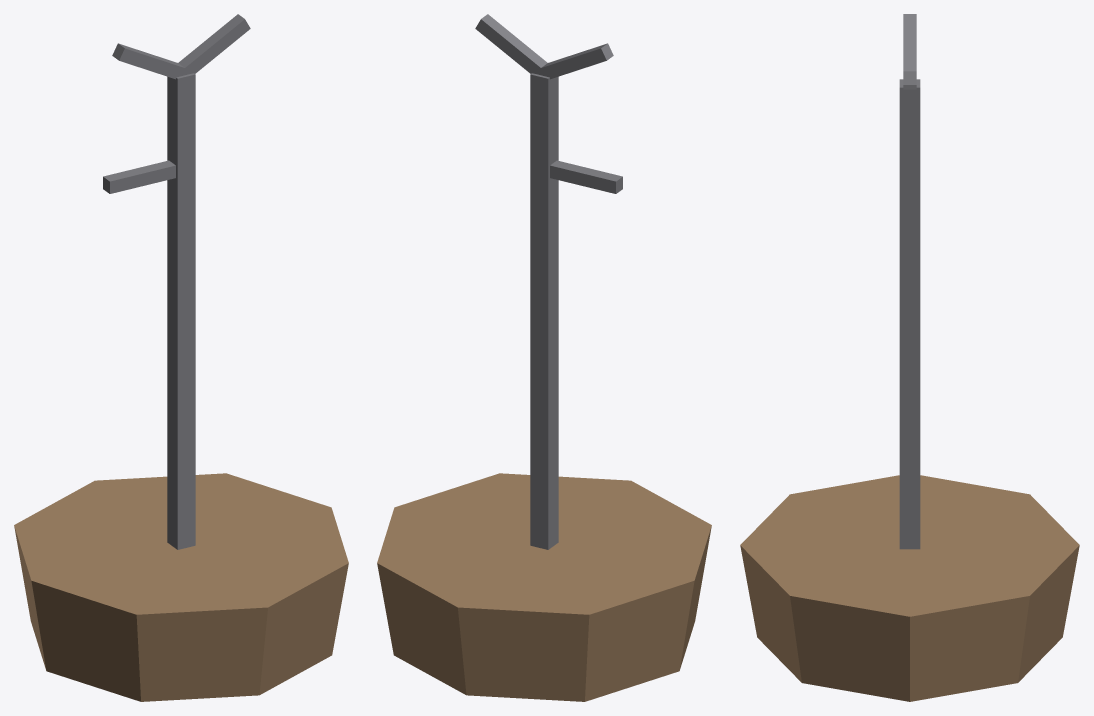
Rendered from prop-rushlight-holder-blank.fbx.
3 views of the same model, side by side, from view 1: azimuth 30°, elevation 25°; view 2: azimuth 150°, elevation 25°; view 3: azimuth 270°, elevation 25° (orthographic). The views are drawn at different scales.
Parts seen in each view (by area): view 1: prop-rushlight-holder-blank; view 2: prop-rushlight-holder-blank; view 3: prop-rushlight-holder-blank.
Boxes of the visible parts, box(x1,y1,x2,y2) form: prop-rushlight-holder-blank: box(14, 14, 348, 701); prop-rushlight-holder-blank: box(377, 14, 711, 701); prop-rushlight-holder-blank: box(740, 14, 1079, 701).
Bounding box in the file's own units: 20 × 38.65 × 20.
